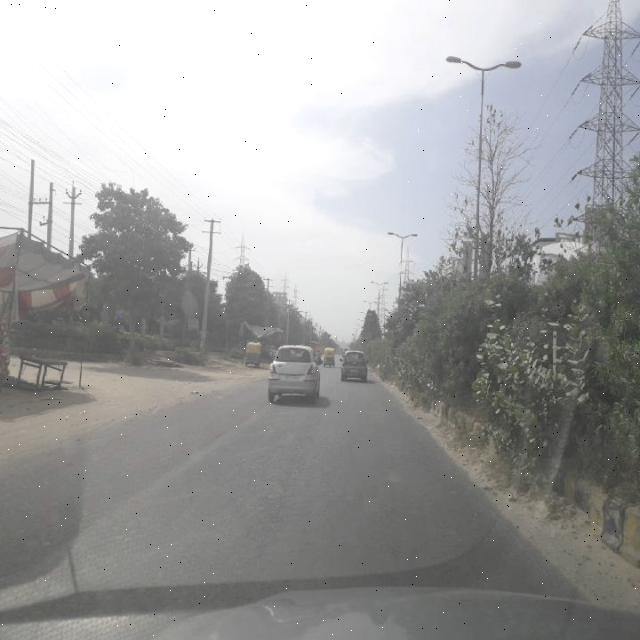D20: (0, 402, 540, 588)
